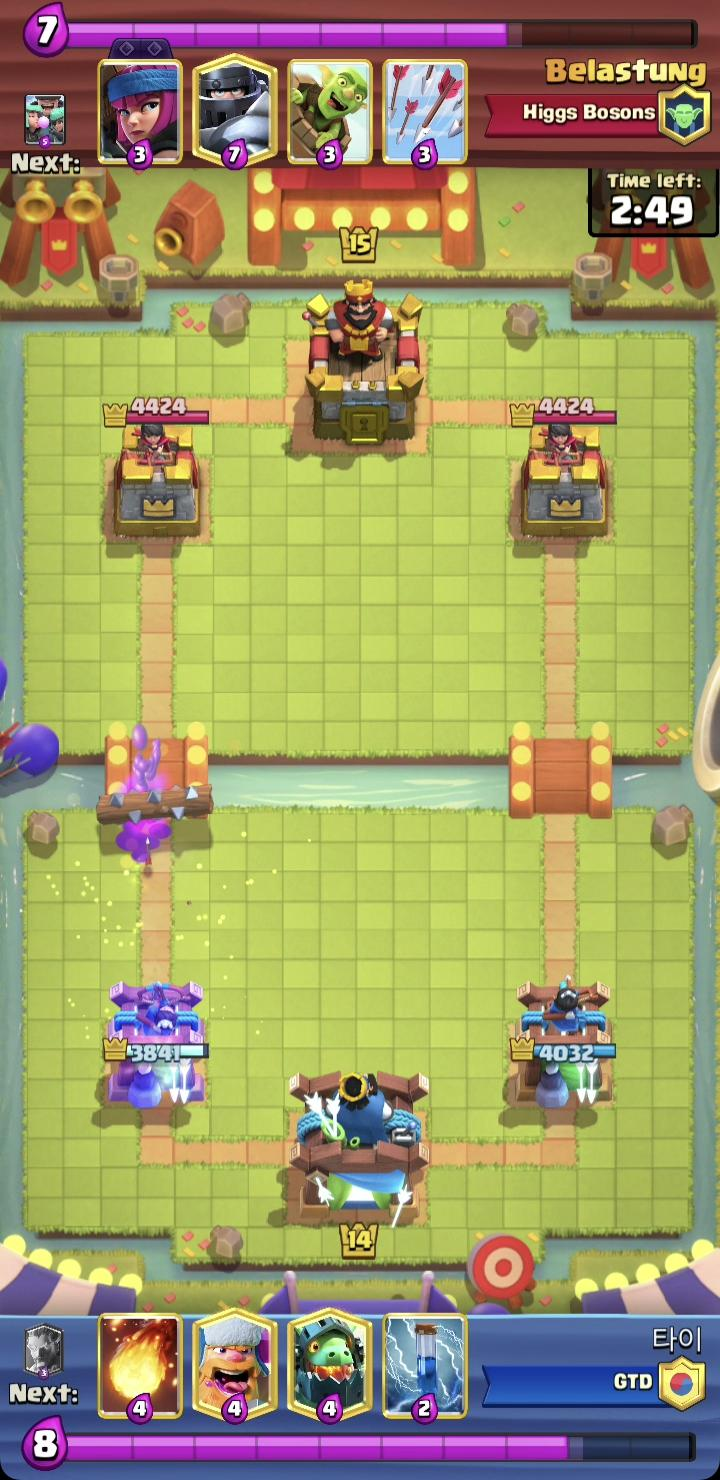ally_log: (93, 777, 215, 830)
